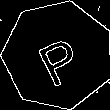P_NW: (30, 25, 86, 86)
